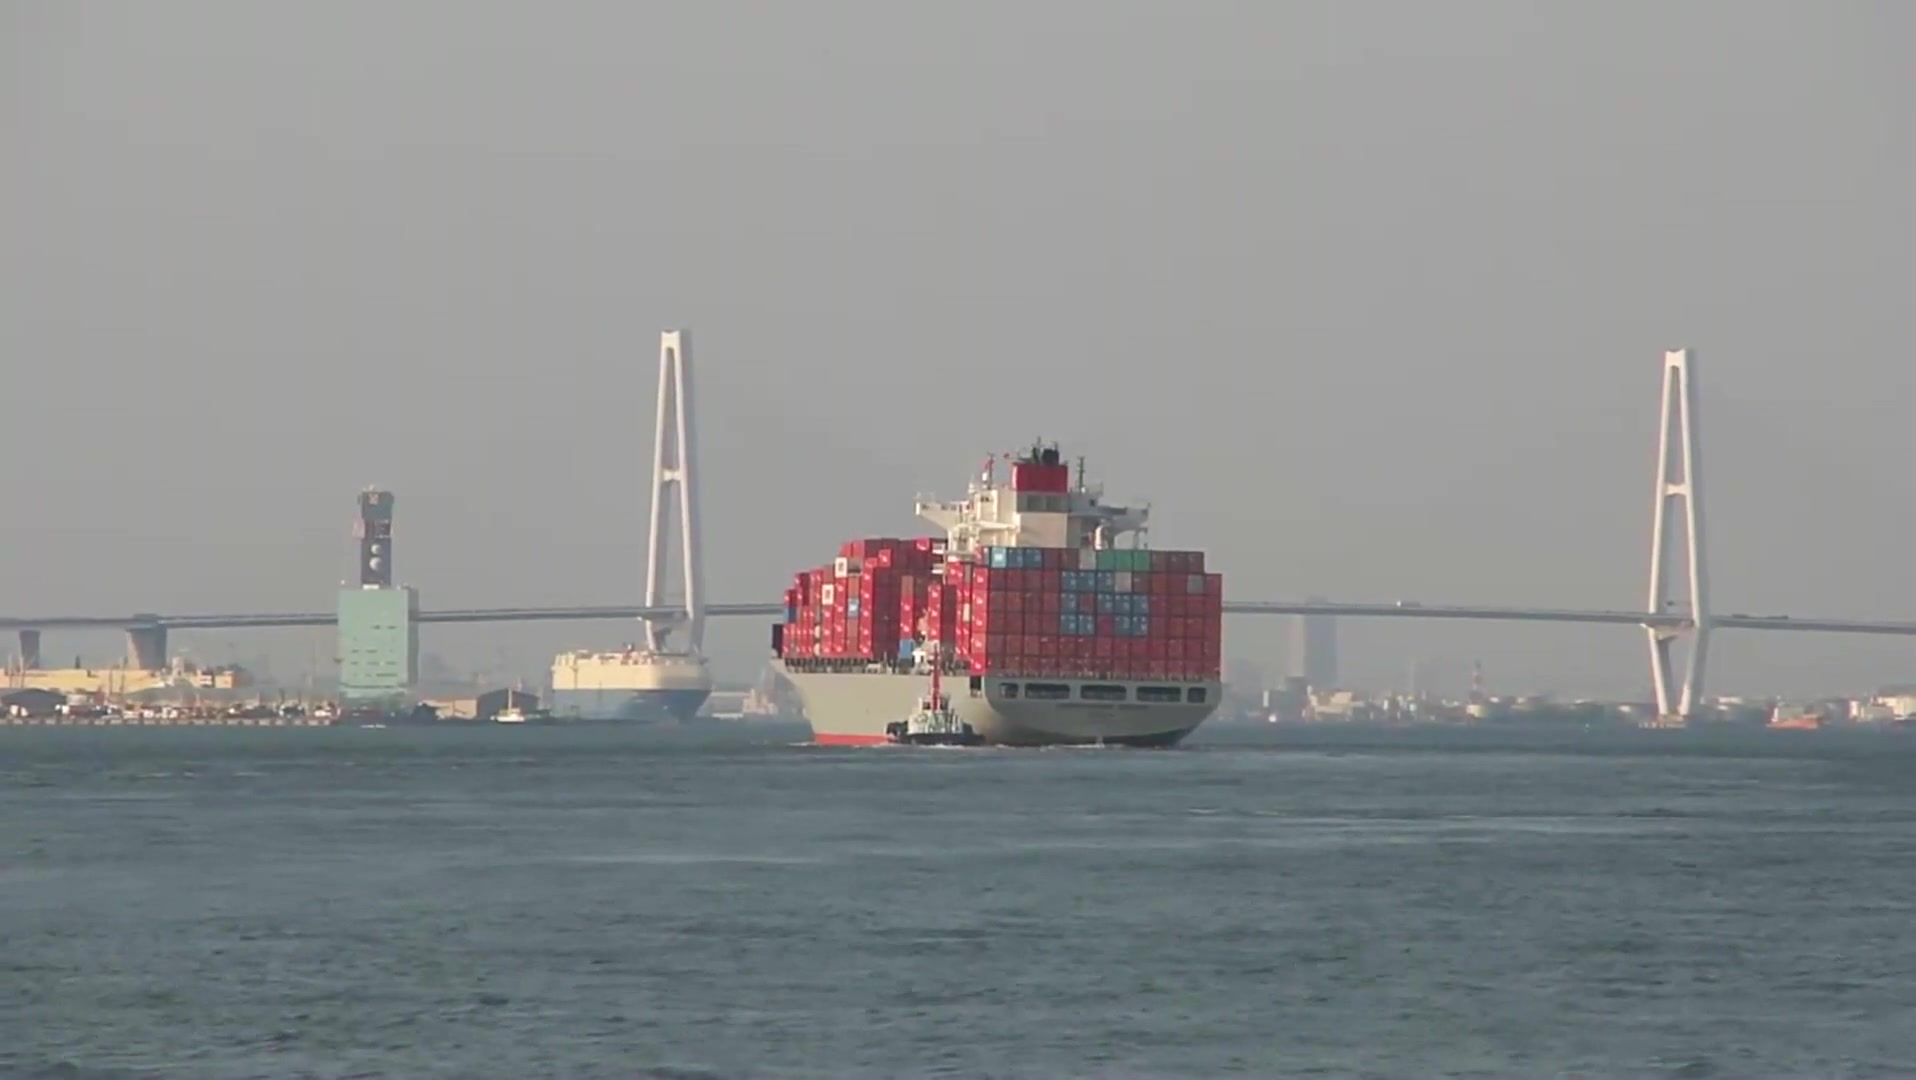boat: (767, 445, 1228, 754), (542, 646, 722, 731), (880, 646, 996, 759), (692, 681, 812, 750)
